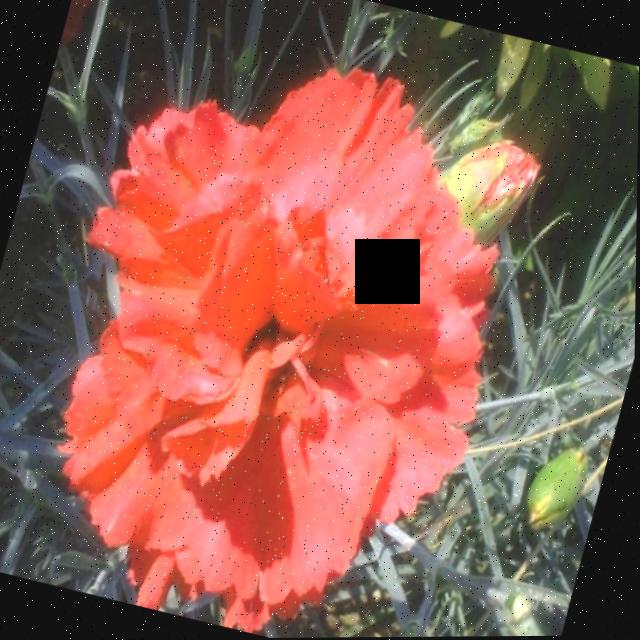carnation: (2, 15, 553, 640)
